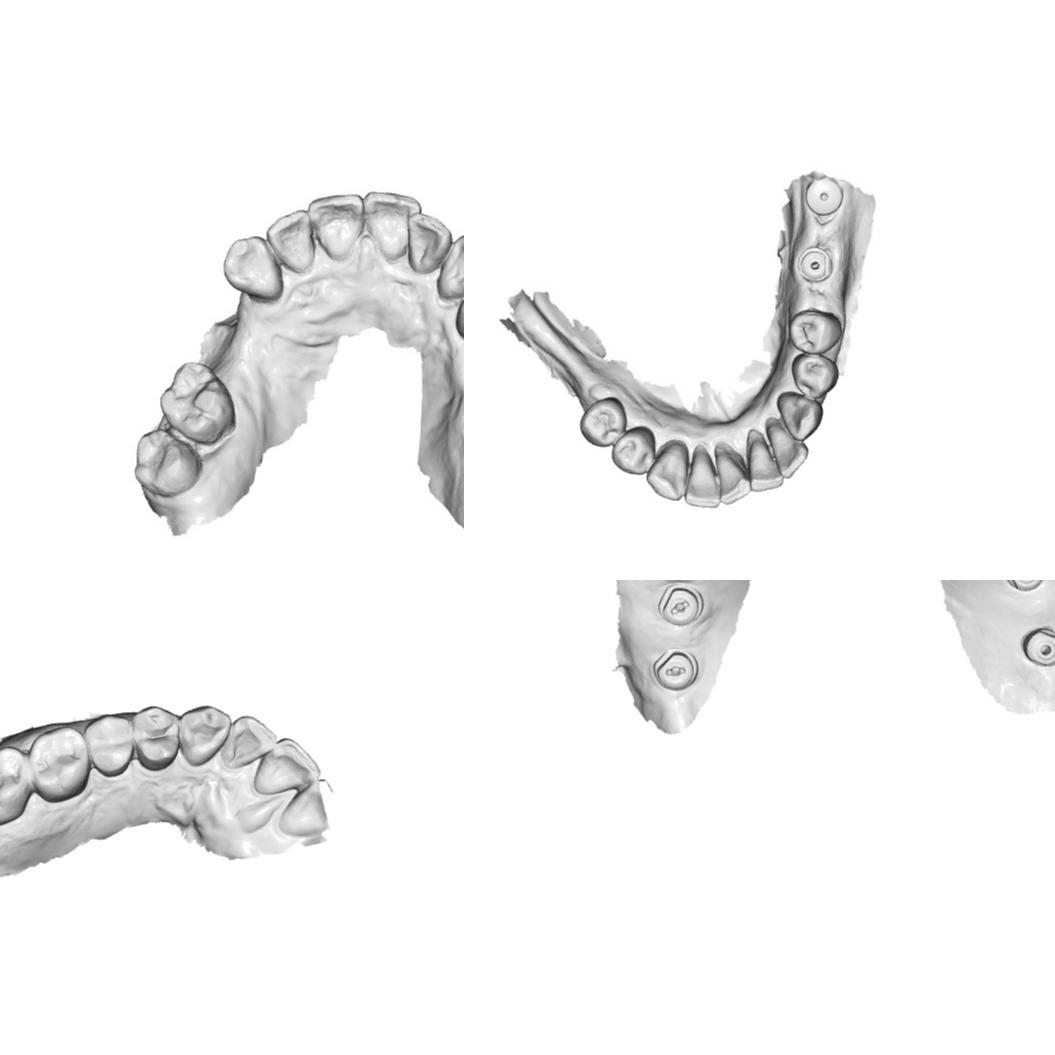canine: (222, 234, 285, 305), (176, 704, 232, 767), (644, 439, 690, 502), (775, 390, 825, 442), (435, 231, 464, 302)
implant: (804, 175, 846, 217), (1020, 621, 1055, 667), (797, 245, 833, 283), (1005, 580, 1044, 593)
implant_minus: (653, 581, 705, 627), (649, 649, 696, 689)
incisor: (361, 190, 423, 262), (306, 191, 366, 262), (252, 736, 322, 796), (278, 777, 336, 838), (264, 208, 316, 275), (220, 714, 278, 769), (405, 210, 453, 274), (764, 424, 809, 480), (683, 450, 720, 510), (746, 438, 784, 494), (714, 450, 752, 506)
molar: (158, 360, 238, 447), (132, 426, 204, 499), (28, 724, 90, 803), (0, 745, 31, 827)
premolar: (130, 704, 179, 772), (85, 712, 135, 778), (787, 307, 844, 355), (578, 395, 628, 448), (788, 352, 842, 400), (610, 424, 656, 477)
